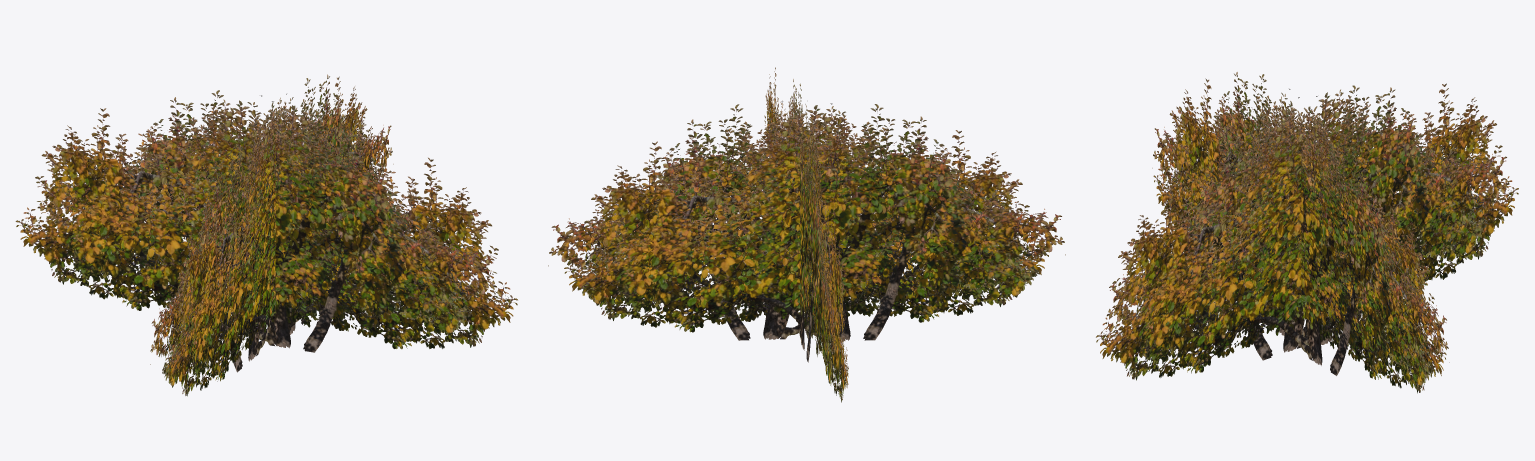
File: SM_Bush_Leaves_00.fbx
3 renders of one model, left to right at view 1: azimuth 30°, elevation 25°; view 2: azimuth 150°, elevation 25°; view 3: azimuth 270°, elevation 25°, orthographic. The views are drawn at different scales.
Visible parts, largest first — view 1: SM_Bush_Leaves_00; view 2: SM_Bush_Leaves_00; view 3: SM_Bush_Leaves_00.
Boxes of the visible parts, <box> form: SM_Bush_Leaves_00: <box>15,74,517,396</box>; SM_Bush_Leaves_00: <box>548,67,1065,402</box>; SM_Bush_Leaves_00: <box>1096,72,1518,393</box>.
Bounding box in the file's own units: 474 × 288 × 439.
